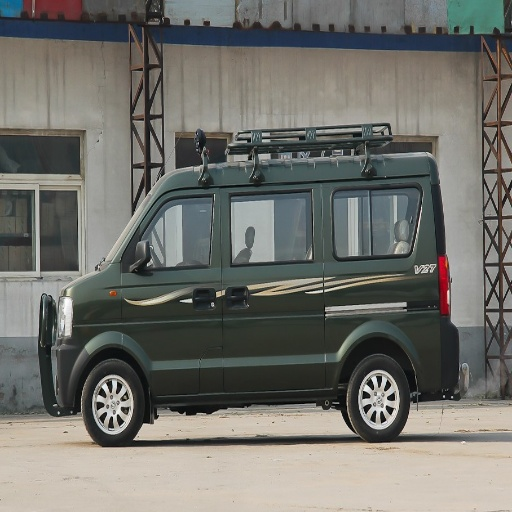back_left_door: (224, 196, 275, 332)
trunk: (285, 271, 441, 386)
